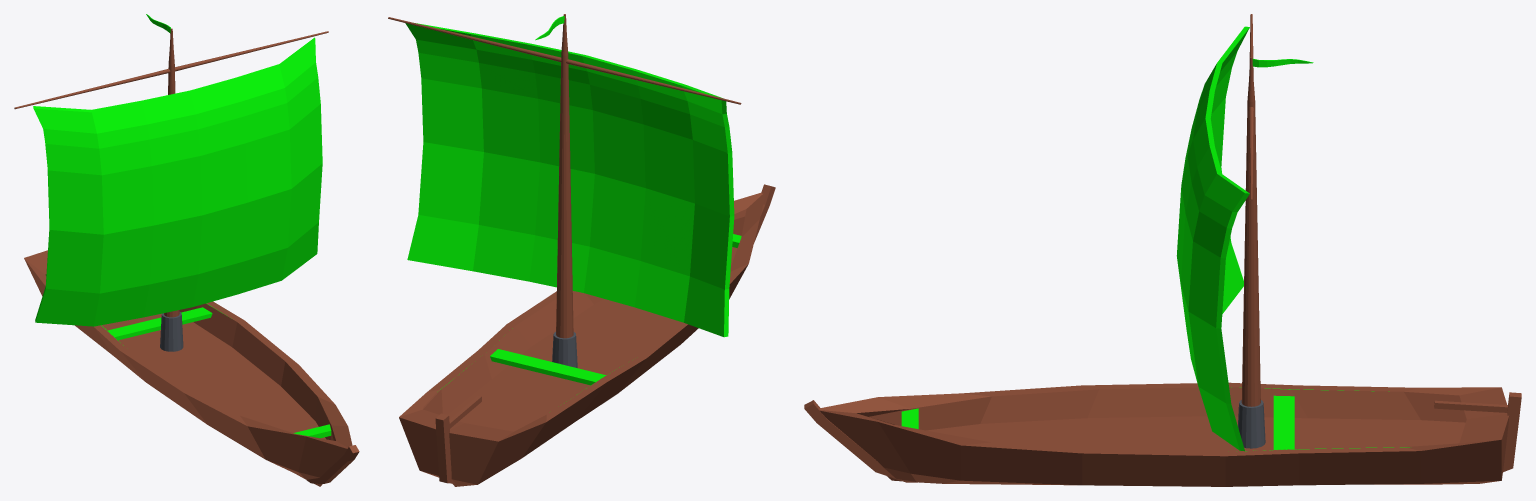
The model's file is Green Boat.fbx.
3 views of the same model, side by side, from view 1: azimuth 30°, elevation 25°; view 2: azimuth 150°, elevation 25°; view 3: azimuth 270°, elevation 25° (orthographic). The views are drawn at different scales.
Parts seen in each view (by area): view 1: Kreis; view 2: Kreis; view 3: Kreis.
Part boxes in pixels (<box>): Kreis: <box>14,14,359,486</box>; Kreis: <box>388,14,775,486</box>; Kreis: <box>804,14,1521,486</box>.
Bounding box in the file's own units: 1400 × 1490 × 2291.
